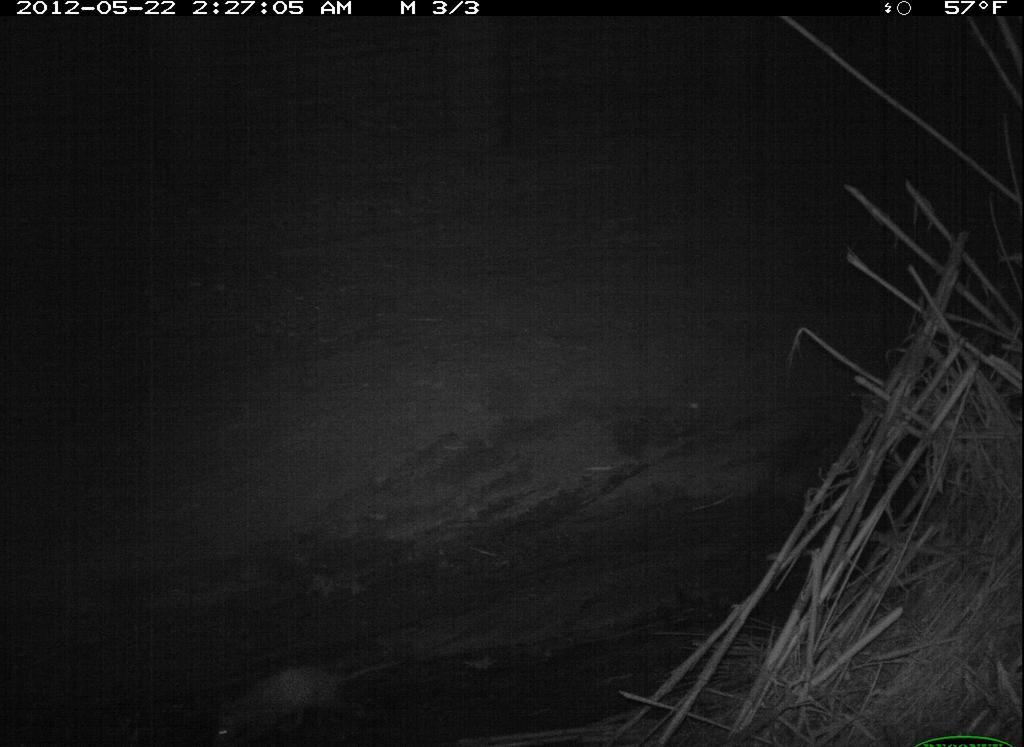opossum: (201, 658, 395, 747)
